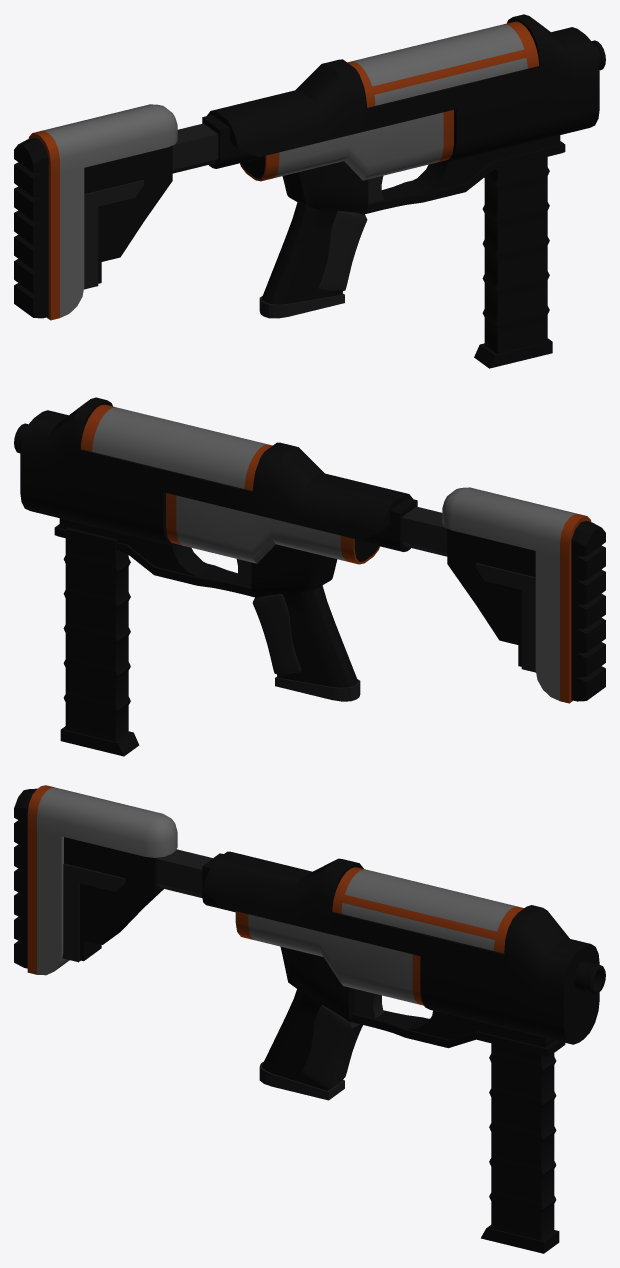
The model's file is SMG_1.obj.
The picture shows the model from 3 angles, top to bottom: view 1: azimuth 30°, elevation 25°; view 2: azimuth 150°, elevation 25°; view 3: azimuth 330°, elevation 25°; orthographic projection.
Visible parts, largest first — view 1: SMG_1_Cube.084, Magazine_SMG_Cube.221; view 2: SMG_1_Cube.084, Magazine_SMG_Cube.221; view 3: SMG_1_Cube.084, Magazine_SMG_Cube.221.
Boxes of the visible parts, bbox=[...] form: SMG_1_Cube.084: bbox=[14, 14, 605, 320]; Magazine_SMG_Cube.221: bbox=[474, 157, 552, 368]; SMG_1_Cube.084: bbox=[14, 397, 605, 703]; Magazine_SMG_Cube.221: bbox=[60, 527, 139, 756]; SMG_1_Cube.084: bbox=[14, 785, 605, 1100]; Magazine_SMG_Cube.221: bbox=[481, 1043, 559, 1253].
Size of the model in its own units: 1.41 by 0.792 by 0.1529.
